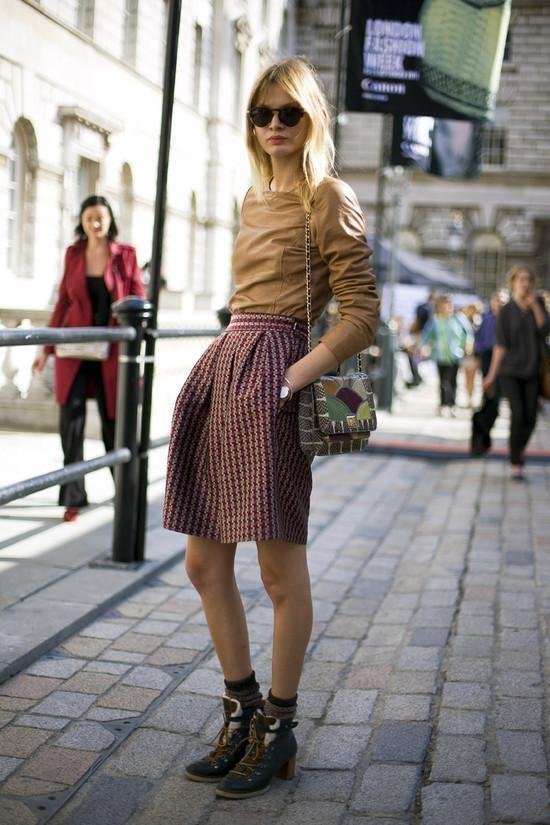Tshirt: (228, 179, 381, 363)
skirt: (162, 312, 320, 547)
